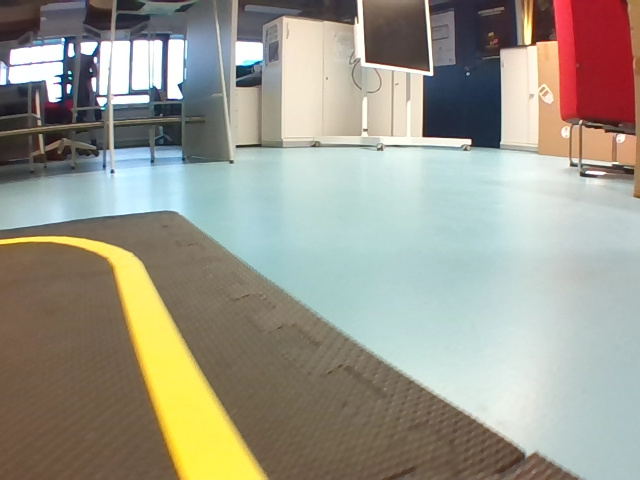30: (334, 105, 363, 135)
stop: (95, 116, 110, 150)
